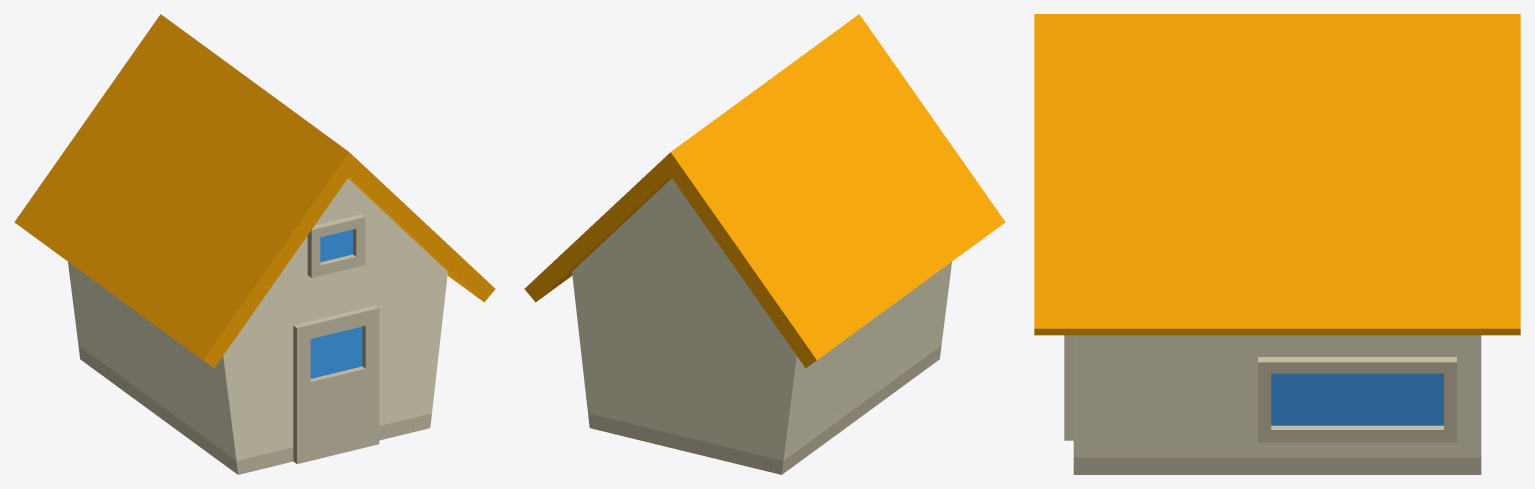
The model's file is home.glb.
3 views of the same model, side by side, from view 1: azimuth 30°, elevation 25°; view 2: azimuth 150°, elevation 25°; view 3: azimuth 270°, elevation 25° (orthographic). The views are drawn at different scales.
Parts seen in each view (by area): view 1: polySurface47; view 2: polySurface47; view 3: polySurface47.
Part boxes in pixels (x1=…): polySurface47: x1=14, y1=14, x2=495, y2=474; polySurface47: x1=524, y1=14, x2=1005, y2=474; polySurface47: x1=1034, y1=14, x2=1520, y2=474.
Size of the model in its own units: 40.09 by 40.67 by 44.76.
